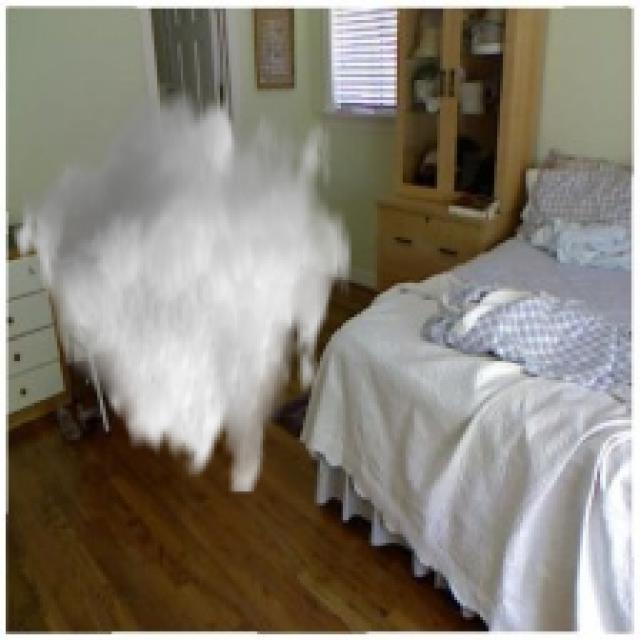smoke: (6, 83, 351, 494)
